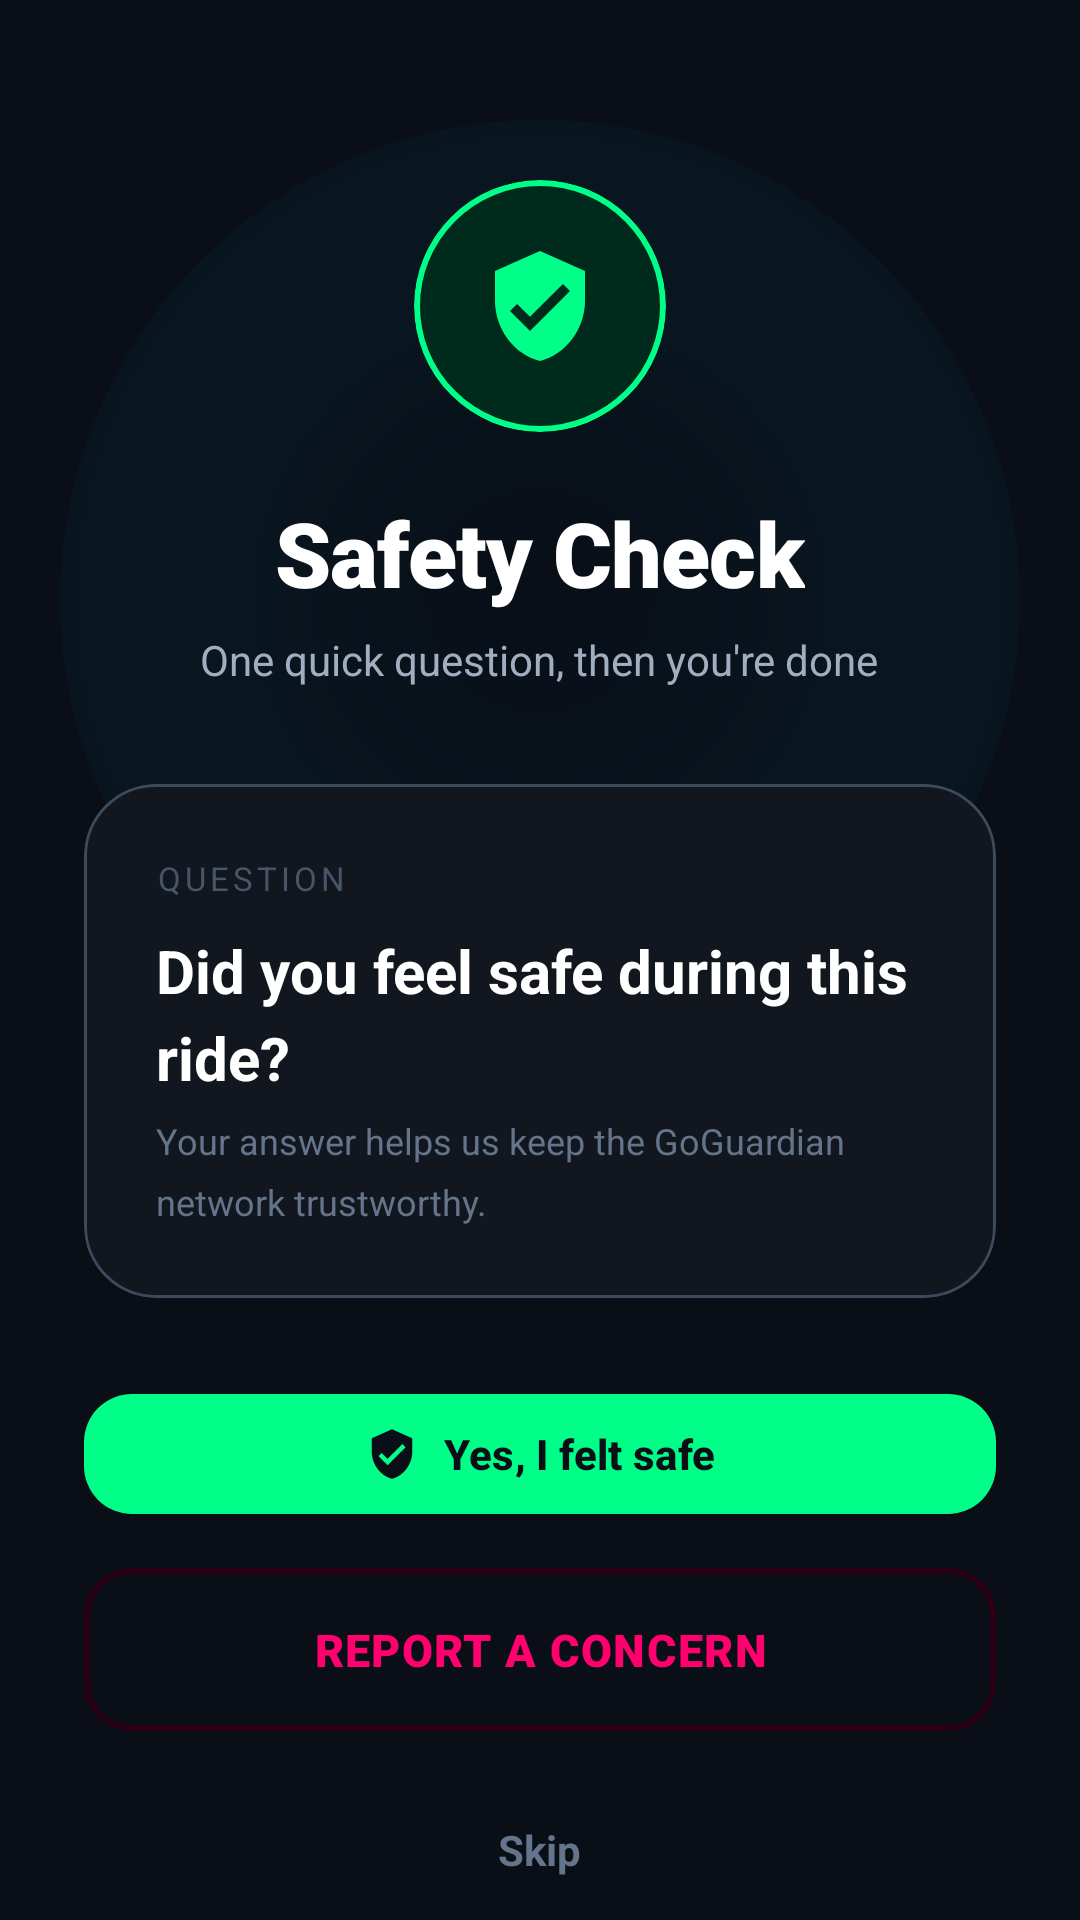

Where to tap for icons on this 1080×1920 app screen, as (x,y):
shield: (540,306)
